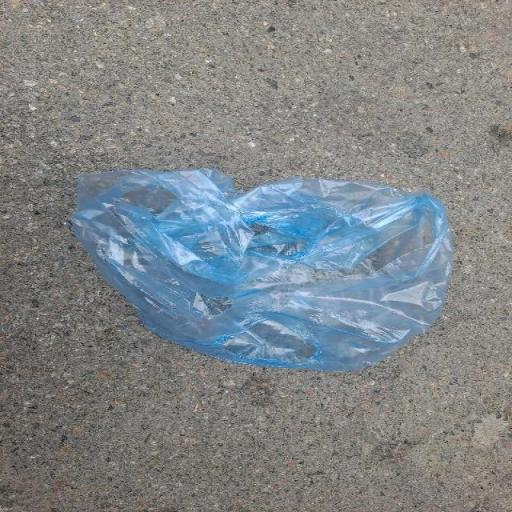plastic-bag: (64, 164, 460, 384)
